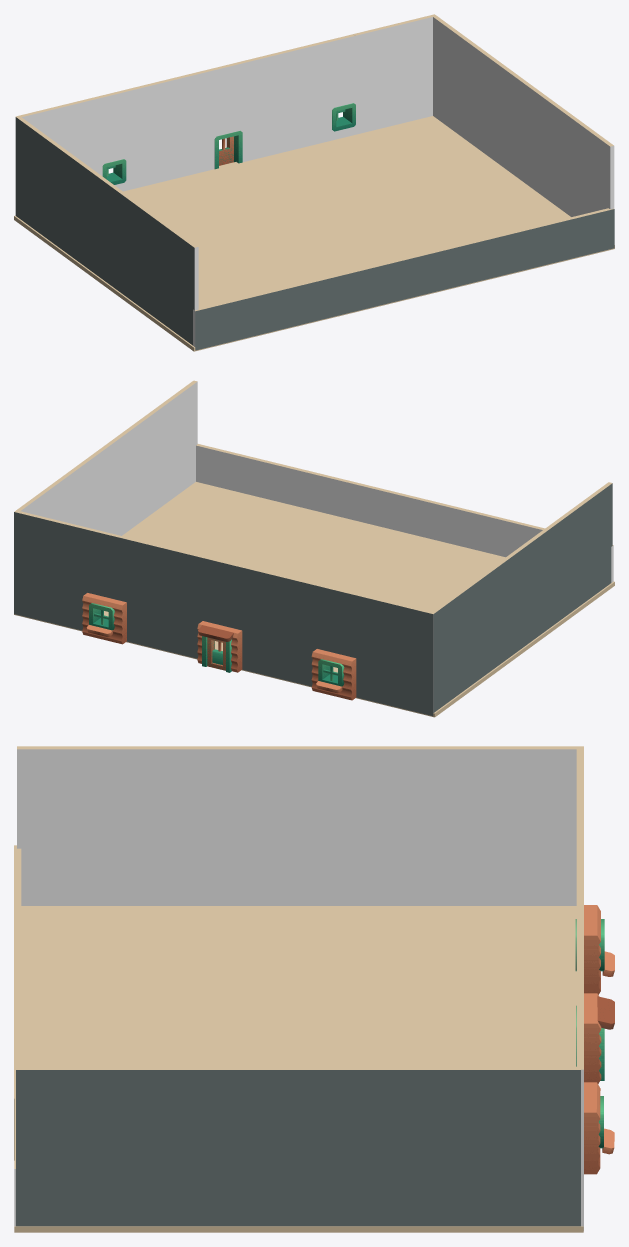
File: Level2Map.glb
3 renders of one model, top to bottom at view 1: azimuth 30°, elevation 25°; view 2: azimuth 150°, elevation 25°; view 3: azimuth 270°, elevation 25°, orthographic. The views are drawn at different scales.
Visible parts, largest first — view 1: floorFull.010, wall.002, wall.001, wall.003, wall.005, wall, wall.006, wall.004, wall.011, wall.007, wall.008, cabin-window-a (+2 smaller); view 2: floorFull.010, wall.002, wall.001, wall.003, wall.005, wall.004, wall, wall.006, cabin-window-a.001, cabin-window-a, wall.011, wall.008 (+3 smaller); view 3: floorFull.010, wall.001, wall.002, cabin-overhang-door-rotate, wall.003, cabin-window-a.001, cabin-window-a, wall.006.
Part boxes in pixels (x1,y1,x2,y2): floorFull.010: (14, 116, 614, 351); wall.002: (15, 116, 198, 345); wall.001: (432, 15, 614, 216); wall.003: (193, 208, 614, 350); wall.005: (240, 40, 331, 161); wall: (124, 68, 214, 190); wall.006: (353, 14, 436, 134); wall.004: (16, 96, 102, 176); wall.011: (213, 62, 242, 137); wall.007: (100, 90, 126, 165); wall.008: (330, 34, 355, 109); cabin-window-a: (332, 103, 355, 131); floorFull.010: (14, 482, 614, 717); wall.002: (430, 482, 612, 712); wall.001: (16, 380, 197, 535); wall.003: (196, 444, 613, 582); wall.005: (119, 536, 210, 658); wall.004: (348, 592, 433, 715); wall: (236, 564, 326, 686); wall.006: (14, 510, 97, 630); cabin-window-a.001: (311, 649, 356, 700); cabin-window-a: (82, 593, 126, 644); wall.011: (208, 558, 237, 628); wall.008: (95, 530, 120, 600); floorFull.010: (14, 906, 583, 1232); wall.001: (16, 1066, 580, 1226); wall.002: (17, 746, 582, 905); cabin-overhang-door-rotate: (576, 993, 614, 1083); wall.003: (14, 845, 21, 1226); cabin-window-a.001: (575, 905, 614, 994); cabin-window-a: (584, 1082, 614, 1174); wall.006: (576, 1007, 583, 1230).
Size of the model in its own units: 92.44 by 21.61 by 72.29.
Materials: 40 (3 with a texture image).
